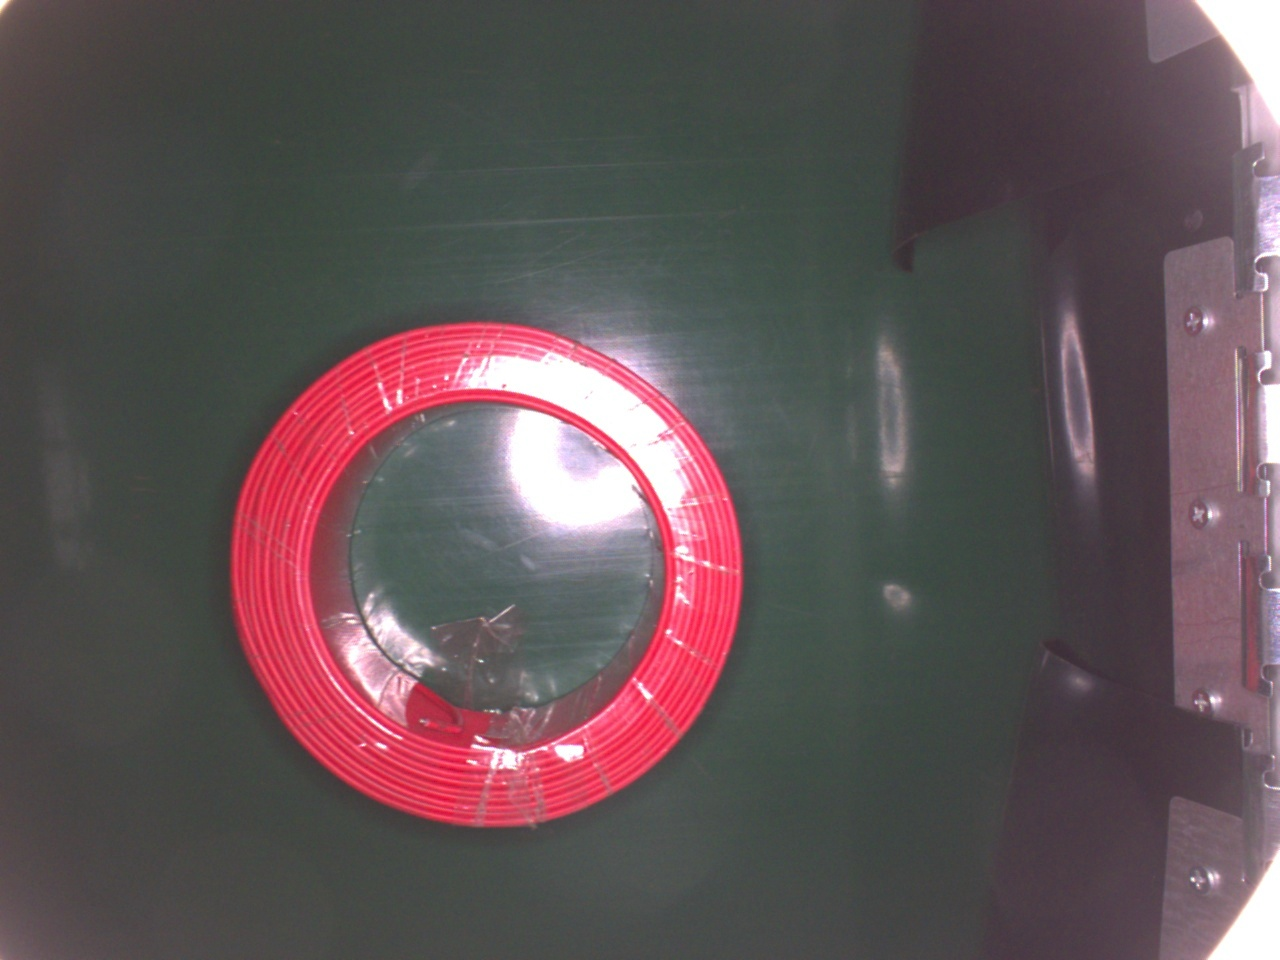red: (229, 314, 741, 834)
